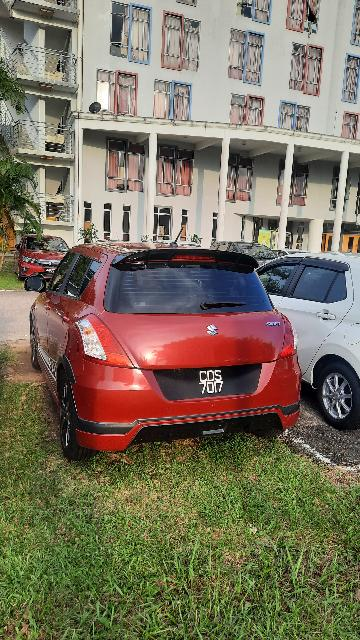License_Plate: (152, 364, 266, 399)
car: (19, 232, 307, 468), (245, 240, 360, 435)
